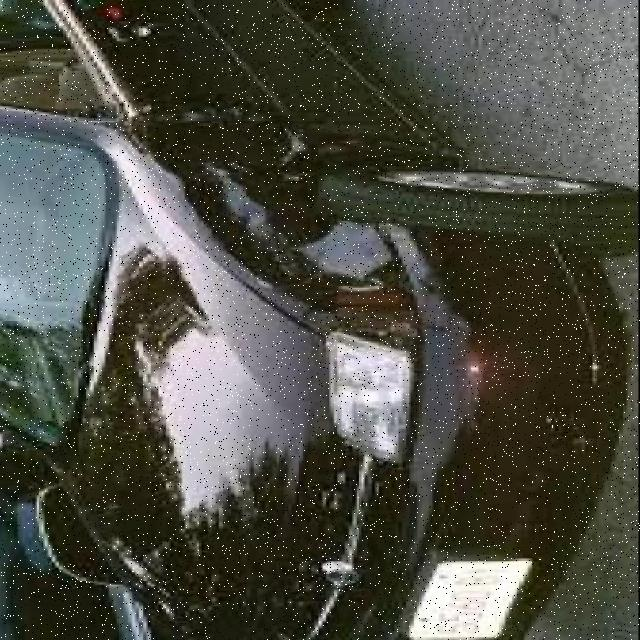damage: (141, 99, 451, 345)
